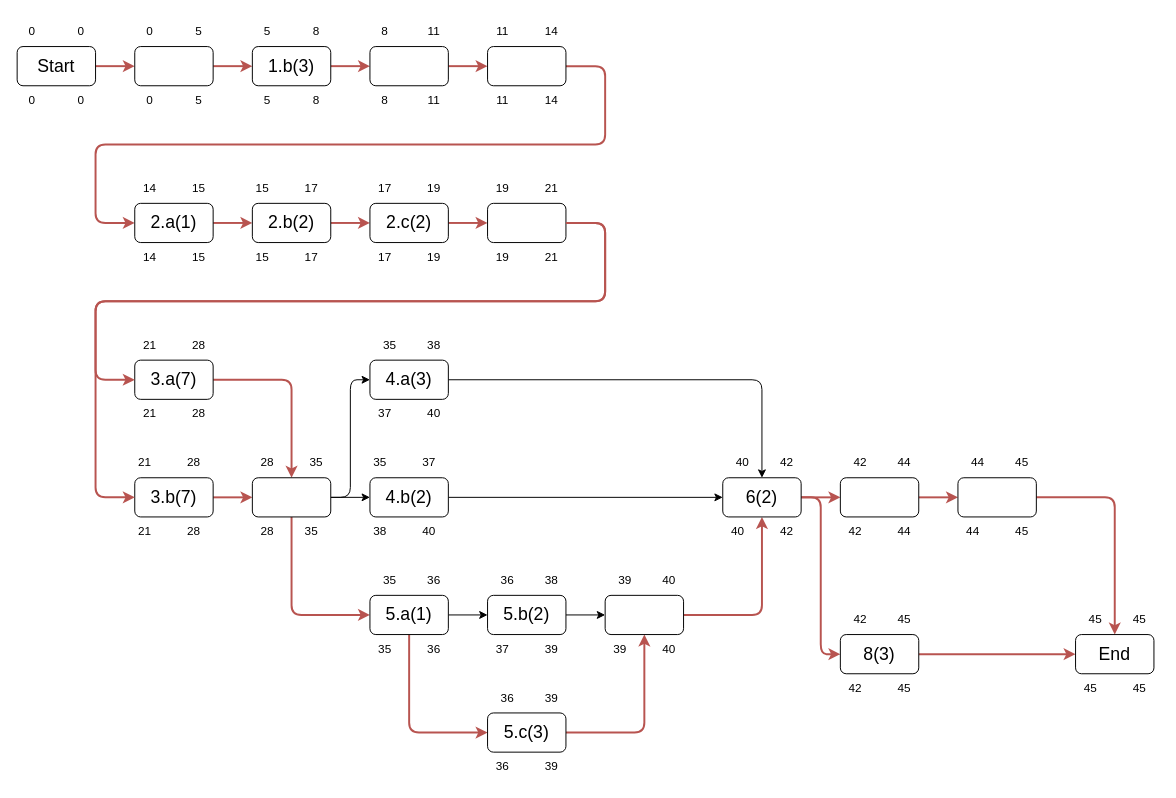
The diagram is 1176 pixels wide and 798 high, and some of its shapes have lost their labels. Here are the shapes that lost their labels. From the top down, the centre of each, then its label:
At (173,66): "1.a(5)".
At (408,66): "1.c(3)".
At (526,66): "1.d(3)".
At (526,222): "2.d(2)".
At (291,497): "3.c(7)".
At (879,497): "7.a(2)".
At (996,497): "7.b(1)".
At (644,614): "5.d(1)".
